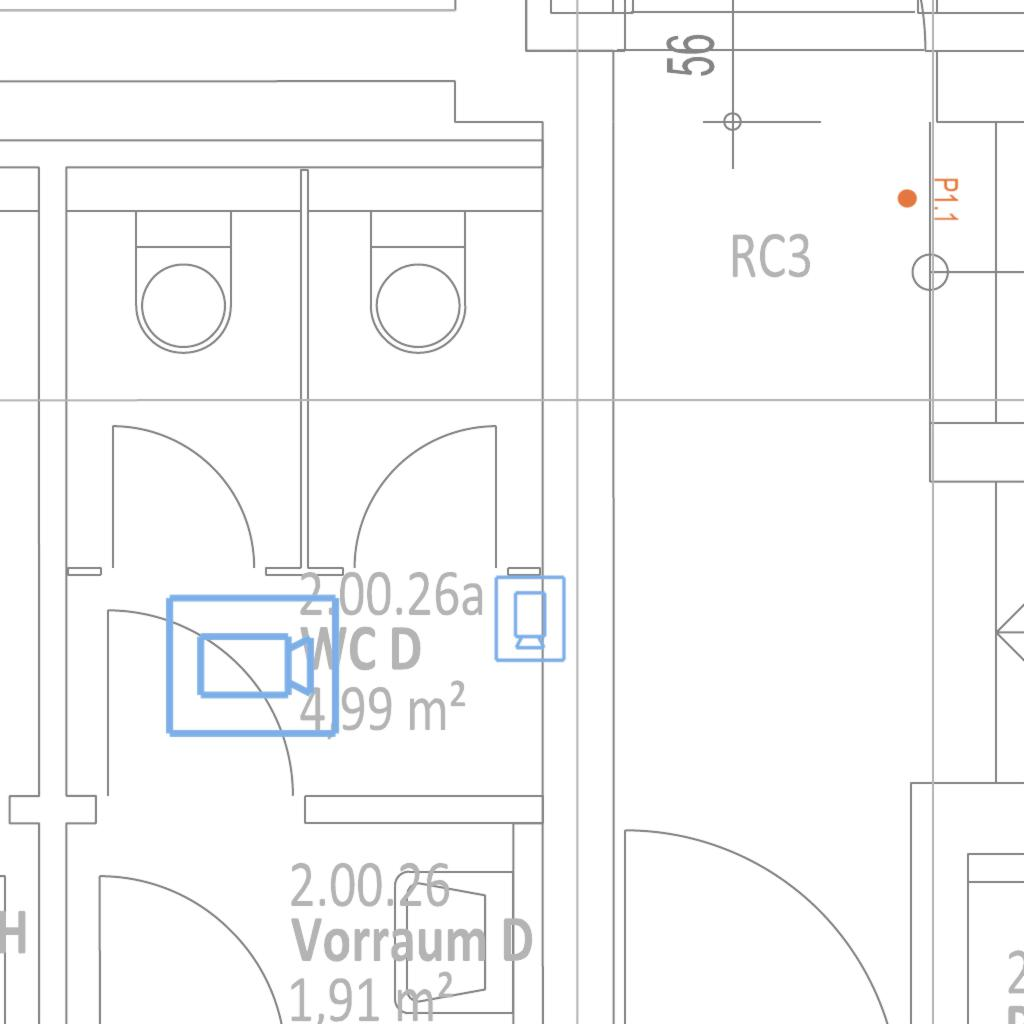Downlight_LED_Einbauleuchten_Flur: (896, 177, 960, 223)
KFO_Kamera_mit_Festobjektiv: (161, 590, 343, 744), (491, 573, 568, 664)
